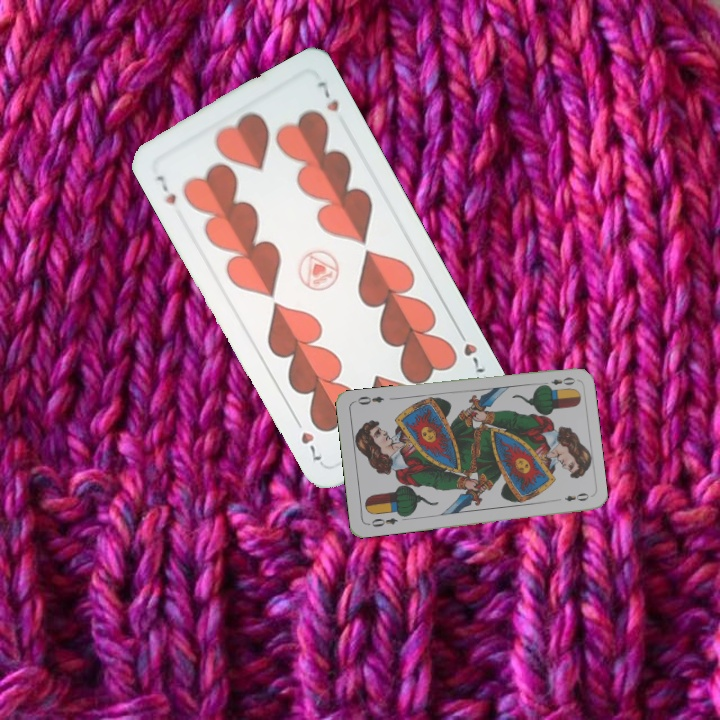EO: (538, 373, 578, 390), (364, 514, 400, 530)
H7: (452, 324, 489, 376), (152, 171, 179, 209)
